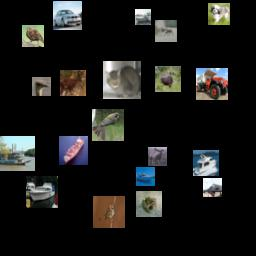airplane: (203, 178, 222, 197)
automobile: (53, 1, 82, 30)
bird: (92, 109, 124, 141), (93, 196, 125, 228), (22, 25, 44, 47), (32, 77, 51, 96)
cat: (103, 61, 141, 99)
deer: (60, 70, 86, 96), (155, 66, 181, 92), (155, 20, 177, 42), (148, 147, 167, 166)
dog: (208, 3, 230, 25)
frog: (136, 191, 162, 217)
ship: (0, 136, 35, 171), (26, 176, 58, 208), (59, 136, 88, 165), (193, 150, 219, 176), (136, 167, 155, 186), (135, 9, 151, 25)
truck: (196, 68, 228, 100)
